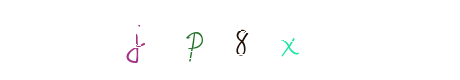8: (190, 0, 270, 80)
J: (123, 0, 203, 80)
P: (180, 0, 260, 80)
X: (203, 0, 283, 80)
